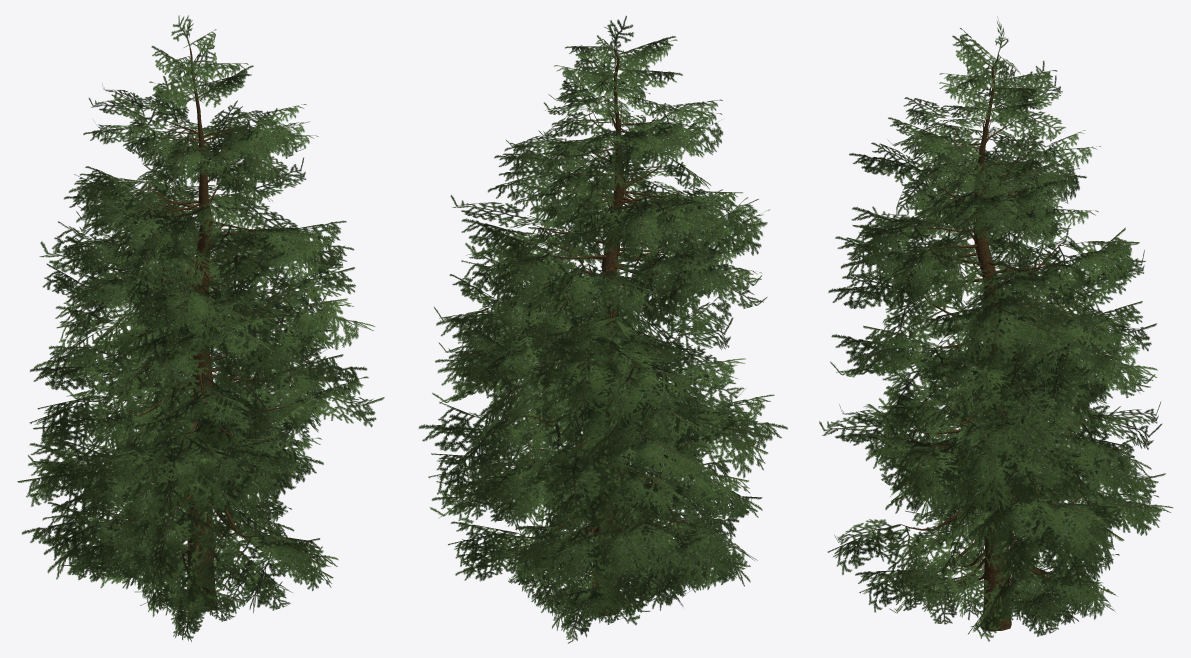
Rendered from fir1.glb.
The picture shows the model from 3 angles, left to right: view 1: azimuth 30°, elevation 25°; view 2: azimuth 150°, elevation 25°; view 3: azimuth 270°, elevation 25°; orthographic projection.
Parts seen in each view (by area): view 1: Christmas tree_LOD0_Brunches_Mat_0, Christmas tree_LOD0_Bark_Mat_0; view 2: Christmas tree_LOD0_Brunches_Mat_0, Christmas tree_LOD0_Bark_Mat_0; view 3: Christmas tree_LOD0_Brunches_Mat_0, Christmas tree_LOD0_Bark_Mat_0.
Part boxes in pixels (x1,y1,x2,y2): Christmas tree_LOD0_Brunches_Mat_0: (17,15,384,641); Christmas tree_LOD0_Bark_Mat_0: (107,44,296,610); Christmas tree_LOD0_Brunches_Mat_0: (418,15,787,643); Christmas tree_LOD0_Bark_Mat_0: (511,46,690,615); Christmas tree_LOD0_Brunches_Mat_0: (819,16,1172,641); Christmas tree_LOD0_Bark_Mat_0: (900,54,1091,630).
Bounding box in the file's own units: 5.29 × 9.29 × 5.04.
2 materials, 2 textured.
